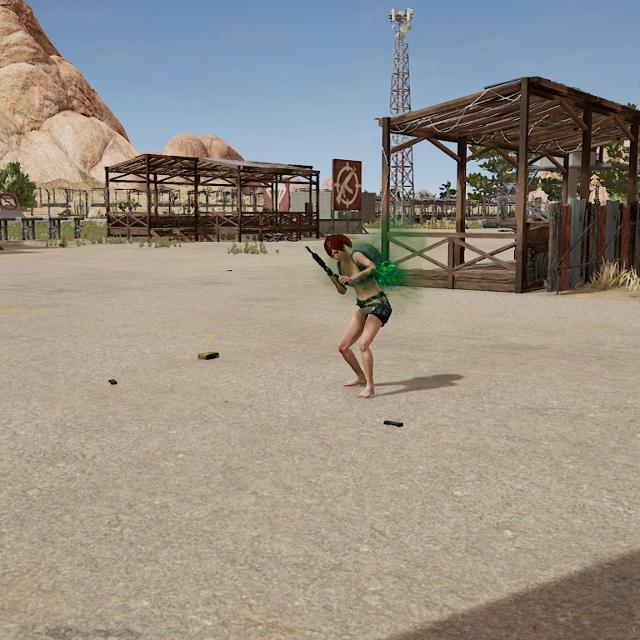head: (324, 232, 352, 264)
people: (324, 231, 391, 400)
